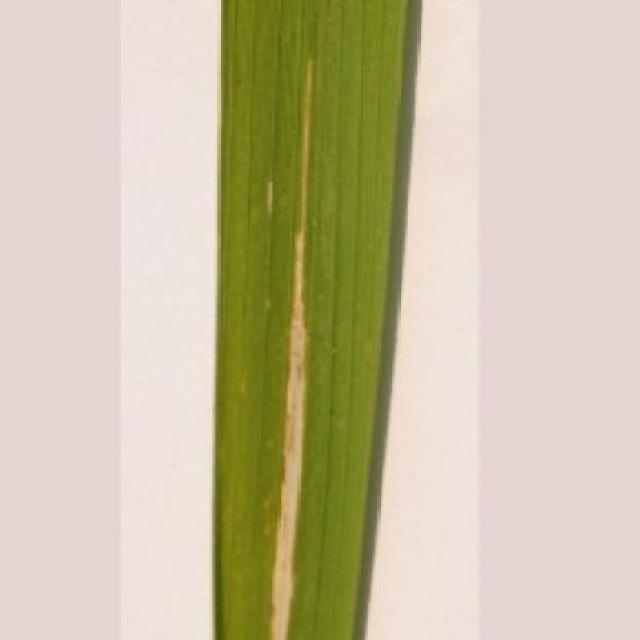Brown_Spot: (208, 0, 414, 640)
